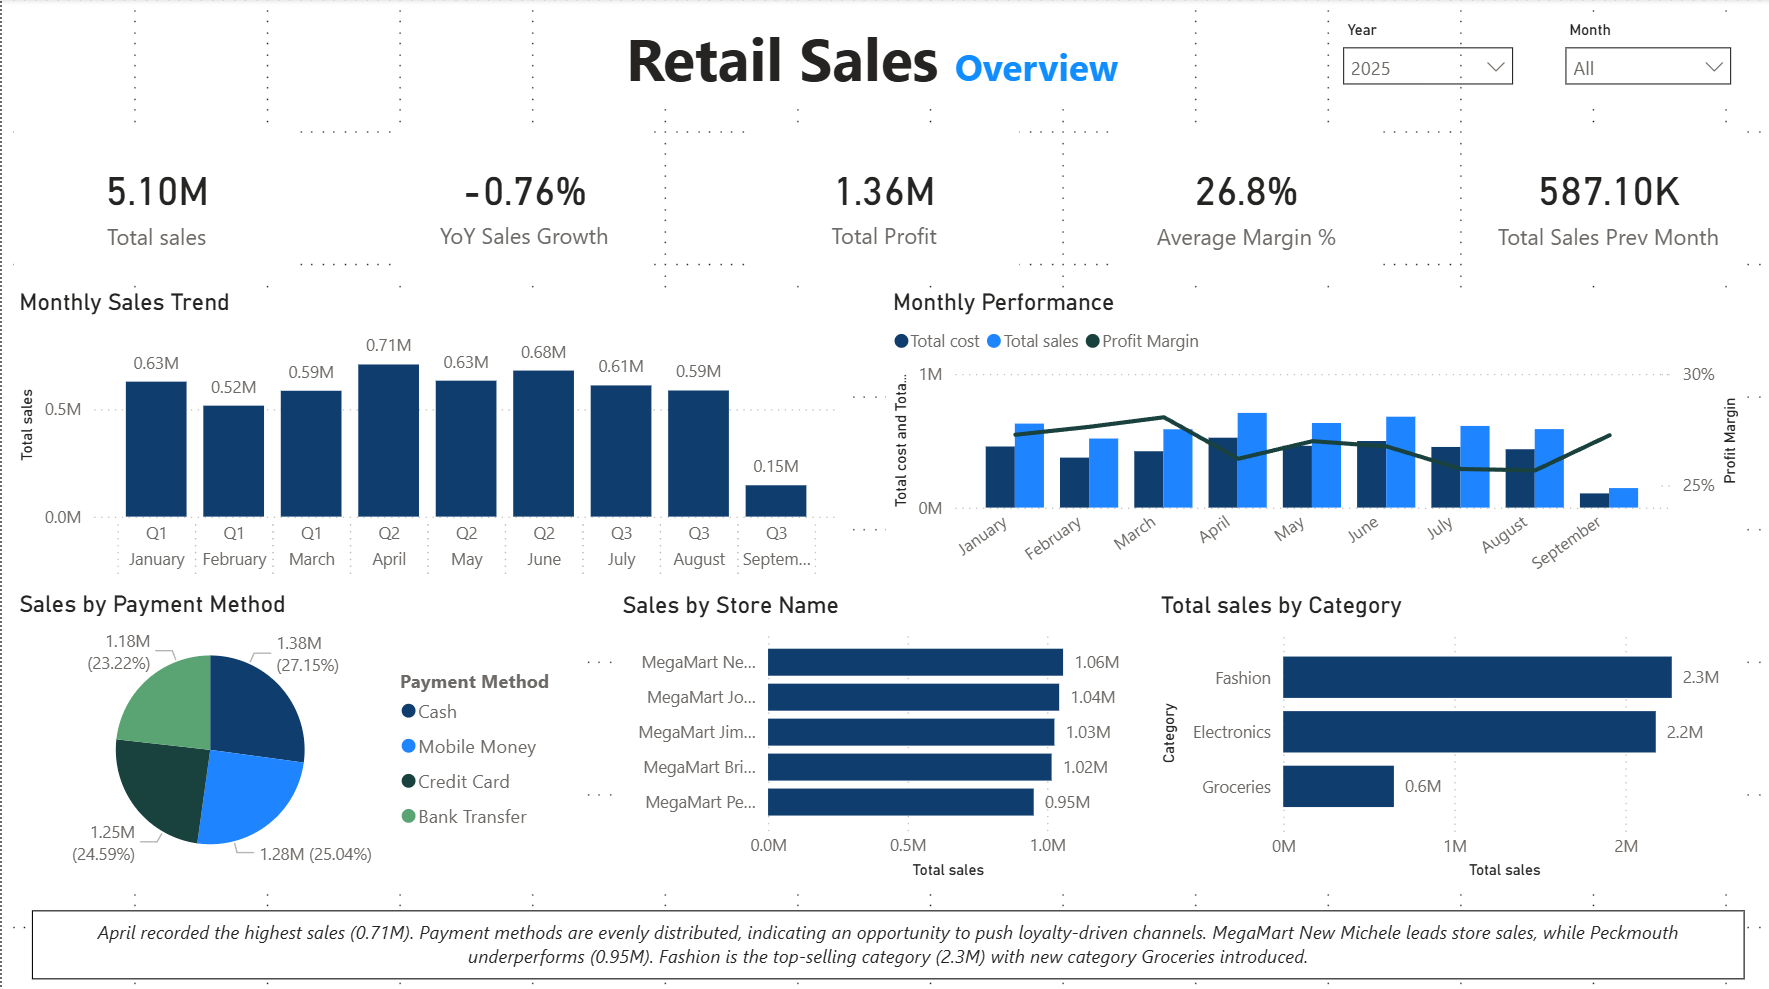

The page's visual inventory and layout, read from the dashboard file:
{"tool":"powerbi","page":{"name":"Executive Summary","canvas":[1280,720],"ordinal":0},"visuals":[{"type":"card","fields":{"Values":["DAX Measure.Total Profit"]},"box":[540.4,91.3,196.2,111.2],"z":0},{"type":"clusteredColumnChart","title":"Monthly Sales Trend","fields":{"Category":["Calender.MonthName","Calender.Quater"],"Y":["Sum(Transactions.Sales Amount)"]},"box":[7.8,209.6,602.8,218.3],"z":1000},{"type":"textbox","box":[412.4,8,435.3,67.6],"z":2000},{"type":"card","fields":{"Values":["DAX Measure.Total sales"]},"box":[8.1,91.8,206.3,110.2],"z":3000},{"type":"card","fields":{"Values":["DAX Measure.Average Margin %"]},"box":[807.1,91.8,186,110.2],"z":4000},{"type":"lineClusteredColumnComboChart","title":"Monthly Performance","fields":{"Category":["Calender.MonthName"],"Y":["Sum(Transactions.CostAmount)","Sum(Transactions.Sales Amount)"],"Y2":["Avg(Transactions.ProfitMargin)"]},"box":[640,209.6,621.8,218.3],"z":5000},{"type":"pieChart","title":"Sales by Payment Method","fields":{"Category":["Transactions.PaymentMethod"],"Y":["DAX Measure.Total saless (sumx)"]},"box":[7.8,427.8,409.7,213.1],"z":6000},{"type":"barChart","title":"Sales by Store Name","fields":{"Category":["Transactions.StoreName"],"Y":["DAX Measure.Total saless (sumx)"]},"box":[444.1,429,389.9,212.5],"z":7000},{"type":"card","fields":{"Values":["DAX Measure.YoY Sales Growth"]},"box":[284.9,91.3,185,111.2],"z":8000},{"type":"slicer","fields":{"Values":["Calender.MonthName"]},"box":[1121.7,10,140.3,68.2],"z":9000},{"type":"slicer","fields":{"Values":["Calender.Year"]},"box":[961.3,10,143.3,68.2],"z":10000},{"type":"card","fields":{"Values":["DAX Measure.Total Sales Prev Month"]},"box":[1063.7,91.8,198.2,110.2],"z":11000},{"type":"textbox","box":[21.7,659.9,1240.2,50.2],"z":12000},{"type":"clusteredBarChart","fields":{"Category":["Transactions.Category"],"Y":["DAX Measure.Total sales"]},"box":[834,429,428,213],"z":13000}]}

Visuals, with their boxes in screenshot pixels (x1, y1, x2, y2), scaled from the page's 1280x720 canvas onto the 1769x989 screenshot:
card - DAX Measure.Total Profit: 747/125/1018/278
"Monthly Sales Trend" clusteredColumnChart: 11/288/844/588
textbox: 570/11/1172/104
card - DAX Measure.Total sales: 11/126/296/277
card - DAX Measure.Average Margin %: 1115/126/1372/277
"Monthly Performance" lineClusteredColumnComboChart: 884/288/1744/588
"Sales by Payment Method" pieChart: 11/588/577/880
"Sales by Store Name" barChart: 614/589/1153/881
card - DAX Measure.YoY Sales Growth: 394/125/649/278
slicer - Calender.MonthName: 1550/14/1744/107
slicer - Calender.Year: 1329/14/1527/107
card - DAX Measure.Total Sales Prev Month: 1470/126/1744/277
textbox: 30/906/1744/975
clusteredBarChart - Transactions.Category x DAX Measure.Total sales: 1153/589/1744/882
